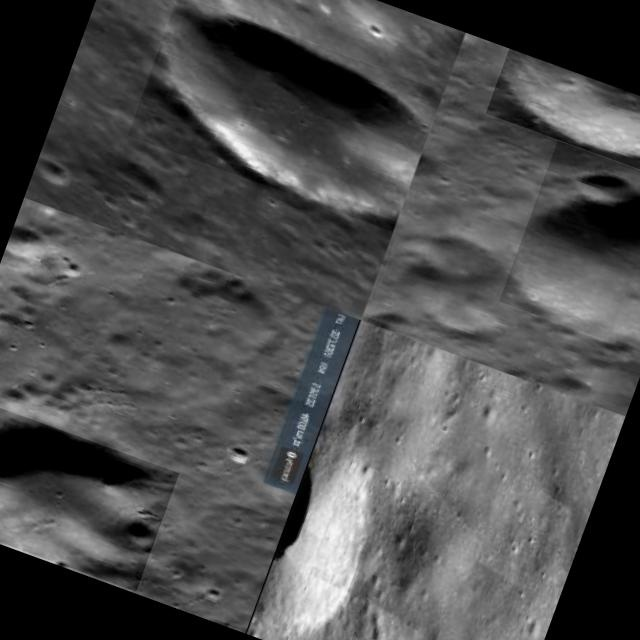crater: (128, 0, 444, 232), (0, 392, 179, 592), (253, 424, 406, 640), (499, 140, 640, 355), (486, 48, 640, 193), (570, 162, 640, 214)
